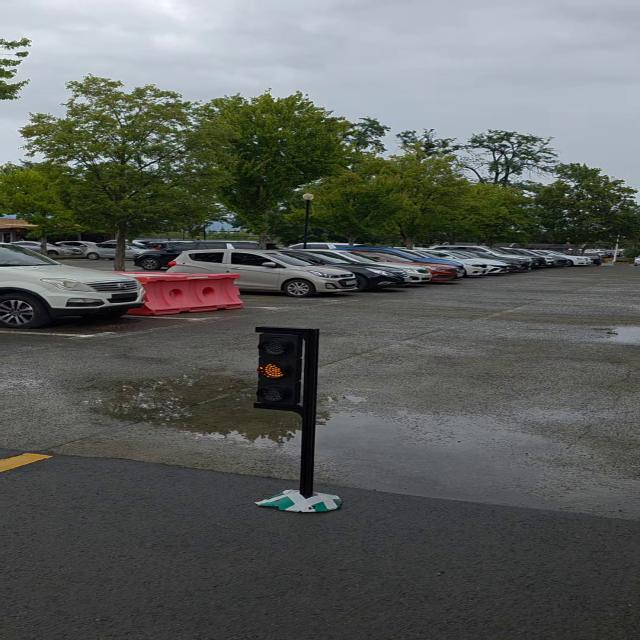yellow: (252, 328, 318, 412)
